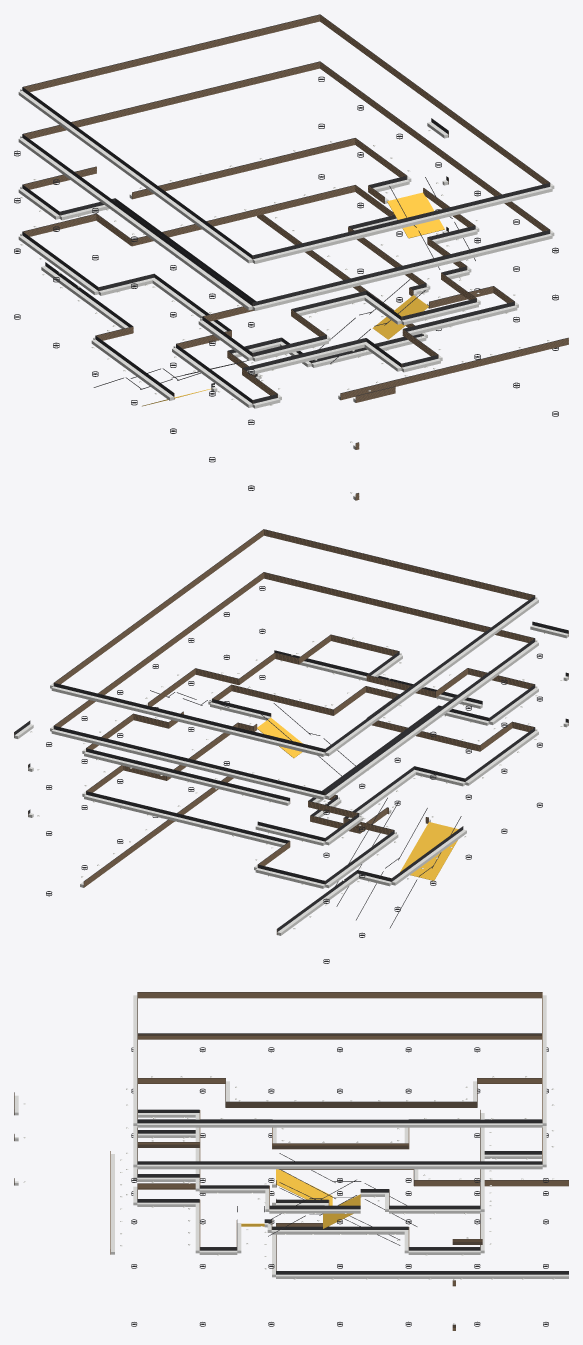
The model's file is SM_Bygg_Helgasetr_Pynt.fbx.
The picture shows the model from 3 angles, top to bottom: view 1: azimuth 30°, elevation 25°; view 2: azimuth 150°, elevation 25°; view 3: azimuth 270°, elevation 25°; orthographic projection. The views are drawn at different scales.
Parts seen in each view (by area): view 1: SM_Bygg_Helgasetr_Pynt; view 2: SM_Bygg_Helgasetr_Pynt; view 3: SM_Bygg_Helgasetr_Pynt.
Part boxes in pixels (<box>): SM_Bygg_Helgasetr_Pynt: <box>14,14,568,500</box>; SM_Bygg_Helgasetr_Pynt: <box>14,529,568,963</box>; SM_Bygg_Helgasetr_Pynt: <box>14,992,568,1330</box>.
Bounding box in the file's own units: 48.6 × 34.41 × 21.19.
